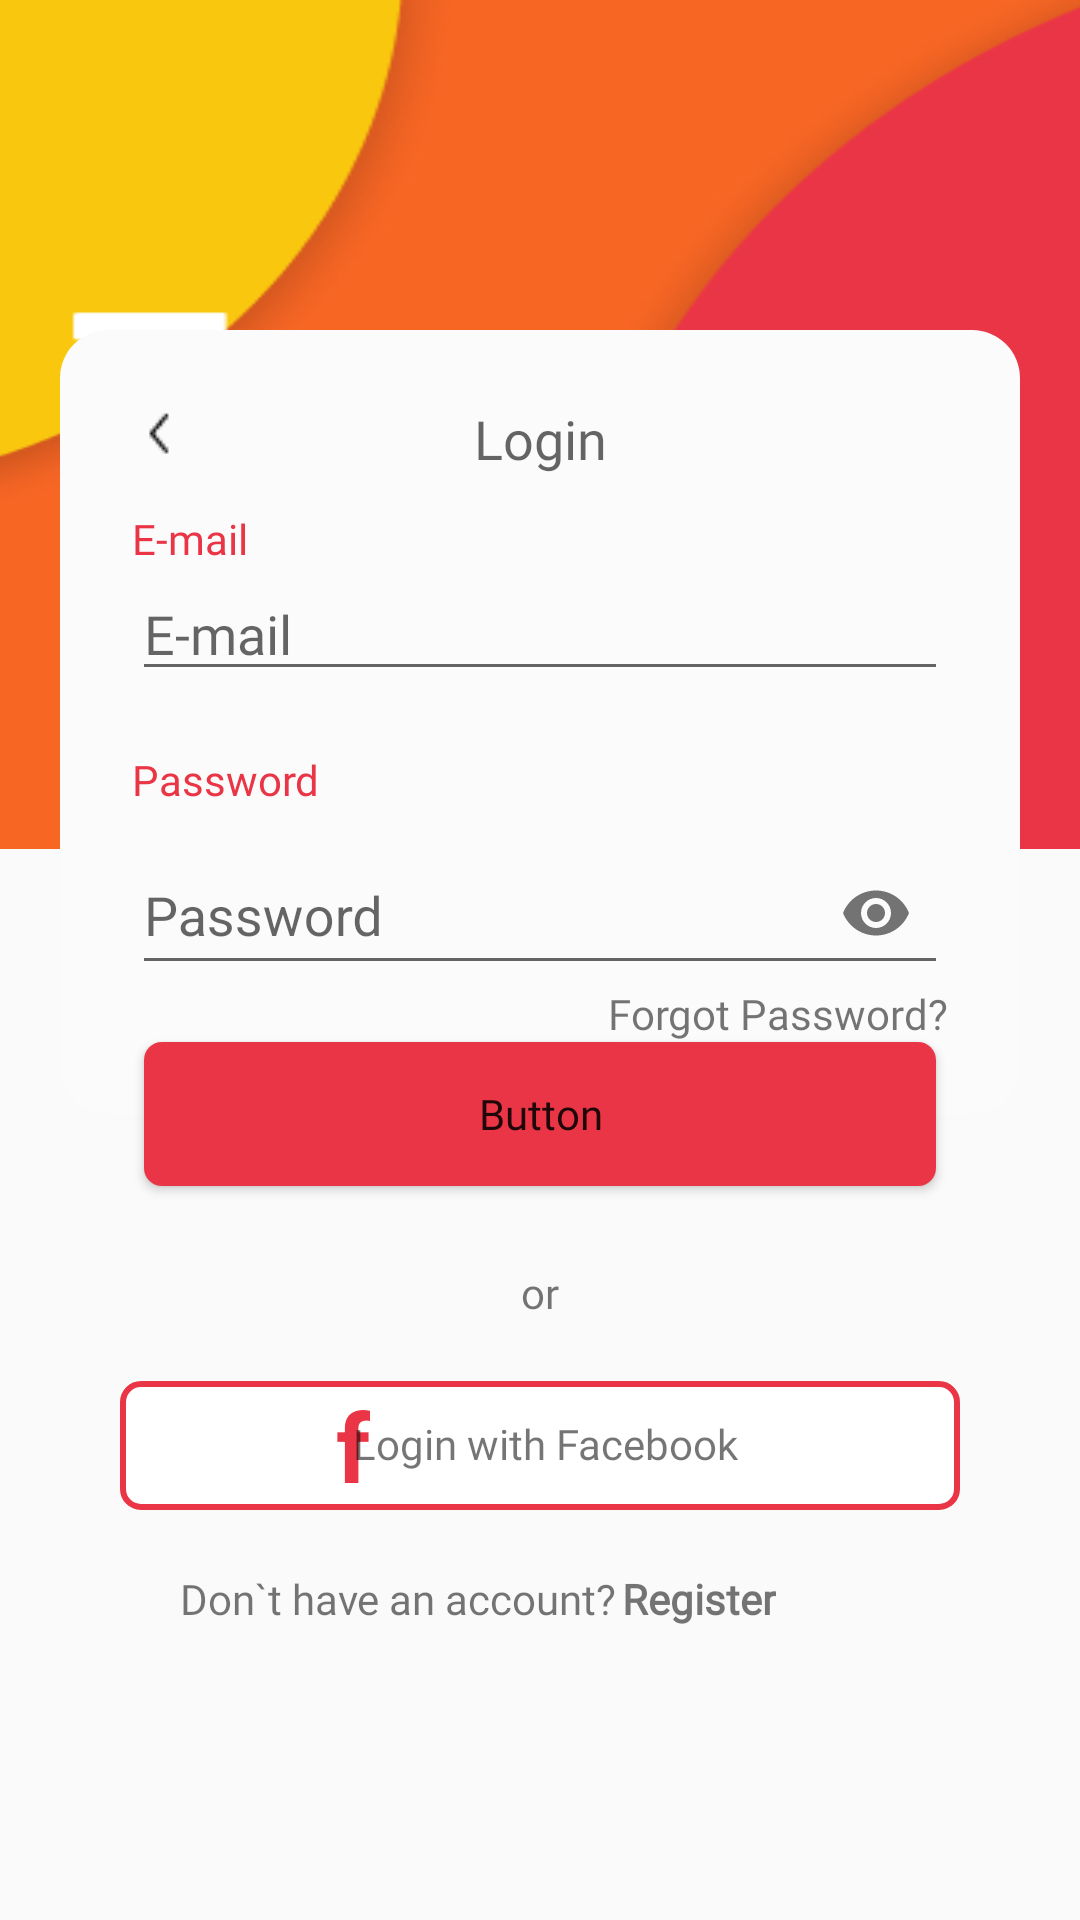

Icon bounding boxes for this 1080×1920 phone screenshot, format (x1, y1, x2, y2):
arrow left: (149, 413, 169, 454)
